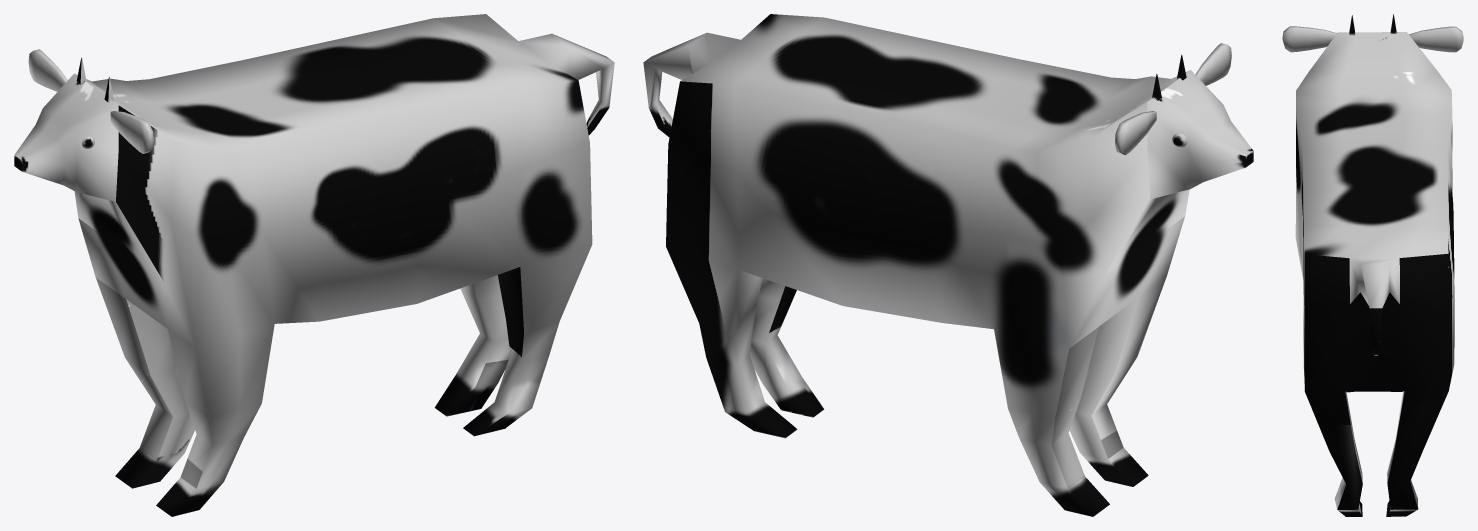
File: cow.glb
3 renders of one model, left to right at view 1: azimuth 30°, elevation 25°; view 2: azimuth 150°, elevation 25°; view 3: azimuth 270°, elevation 25°, orthographic. The views are drawn at different scales.
Visible parts, largest first — view 1: Cube_0; view 2: Cube_0; view 3: Cube_0.
Part boxes in pixels (<box>): Cube_0: <box>14,14,614,516</box>; Cube_0: <box>643,14,1253,516</box>; Cube_0: <box>1282,14,1463,516</box>.
Size of the model in its own units: 12.65 by 9.03 by 4.23.
1 material, 1 textured.
